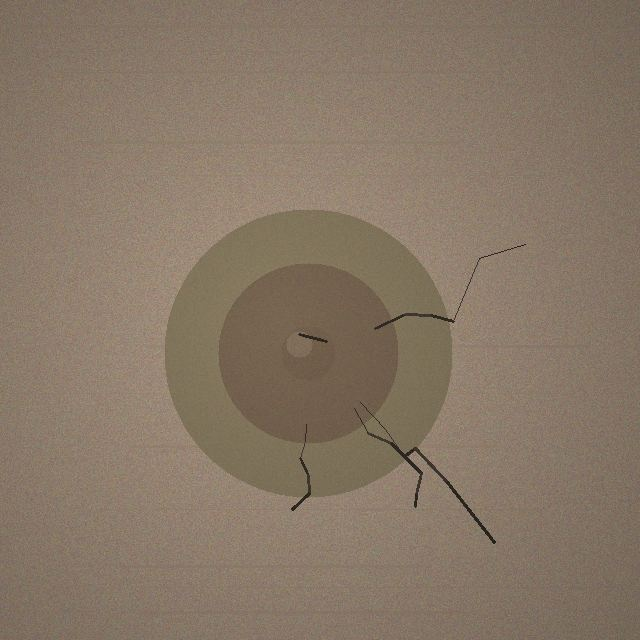crack: (164, 209, 452, 497)
